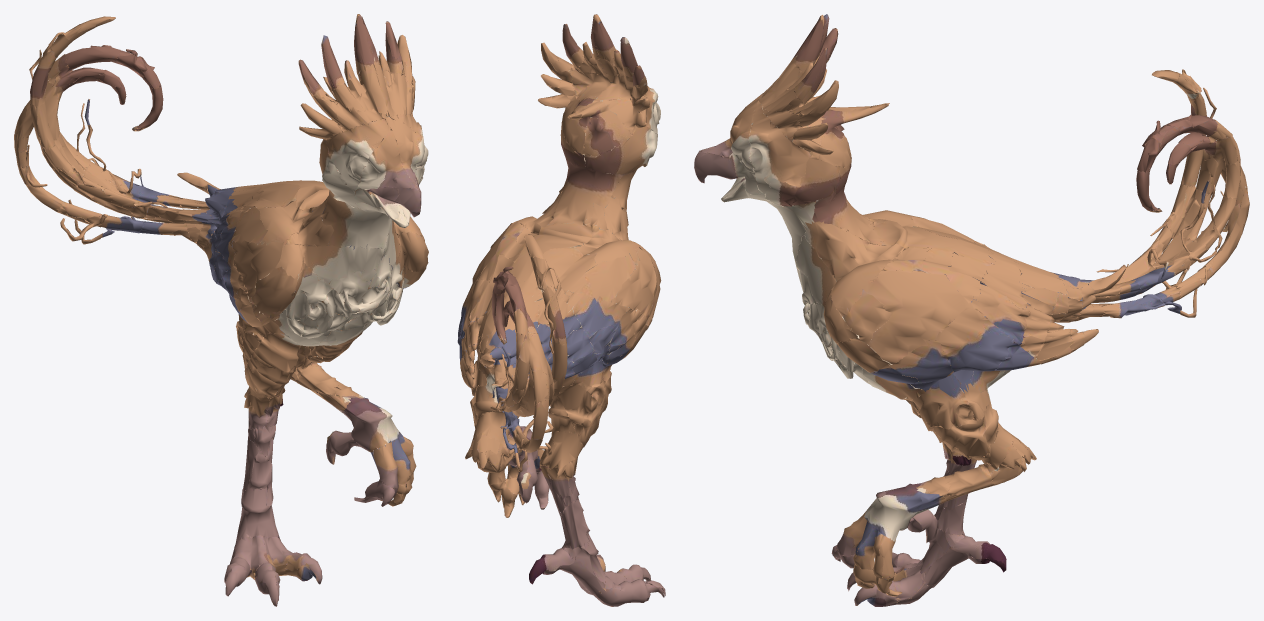
The picture shows the model from 3 angles, left to right: view 1: azimuth 30°, elevation 25°; view 2: azimuth 150°, elevation 25°; view 3: azimuth 270°, elevation 25°; orthographic projection. The views are drawn at different scales.
Parts seen in each view (by area): view 1: Mesh_0; view 2: Mesh_0; view 3: Mesh_0.
Part boxes in pixels (x1=…): Mesh_0: x1=14, y1=14, x2=428, y2=606; Mesh_0: x1=457, y1=14, x2=665, y2=606; Mesh_0: x1=694, y1=14, x2=1249, y2=606.
Size of the model in its own units: 0.7932 by 1.9 by 1.57.
1 material, 1 textured.
